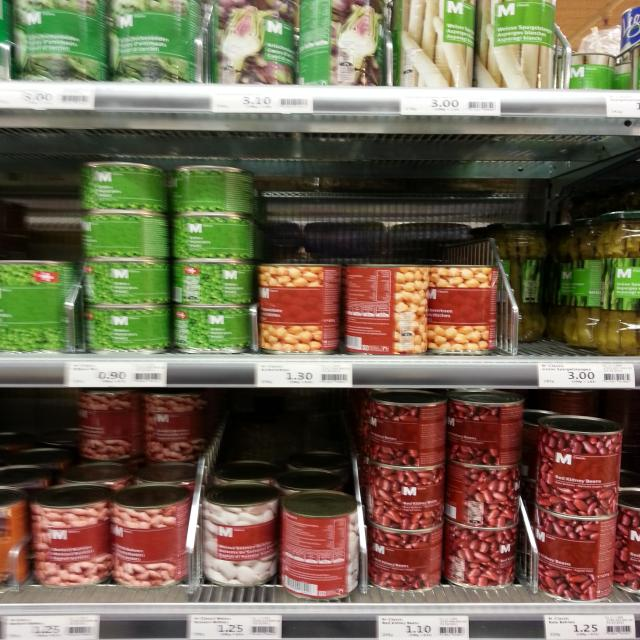Canned: (280, 489, 361, 600), (32, 482, 114, 588), (538, 415, 622, 517), (113, 484, 192, 590), (532, 505, 618, 602), (202, 481, 281, 585), (255, 262, 342, 352), (109, 0, 201, 84), (12, 0, 106, 82), (298, 0, 386, 87), (208, 0, 298, 84), (346, 264, 426, 354), (490, 221, 549, 343), (590, 212, 640, 355), (474, 0, 555, 88), (0, 260, 73, 357), (393, 0, 474, 87), (428, 266, 499, 353), (367, 390, 446, 467), (447, 392, 525, 466), (369, 458, 444, 530), (443, 519, 518, 590), (446, 460, 522, 528), (371, 522, 444, 592), (77, 387, 142, 460), (142, 392, 206, 464), (81, 258, 171, 307), (80, 162, 168, 212), (84, 306, 172, 354), (172, 164, 255, 214), (83, 211, 169, 259), (172, 213, 259, 260), (174, 258, 254, 305), (174, 305, 248, 354)
